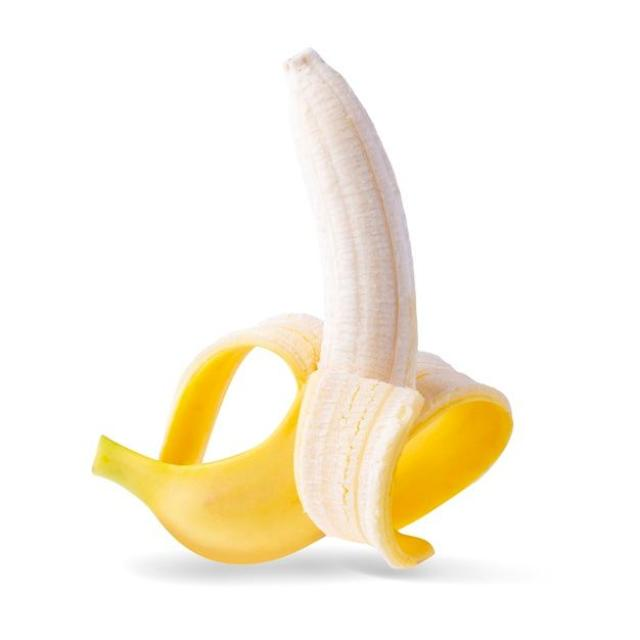banana: (94, 51, 511, 566), (288, 51, 432, 567), (94, 315, 323, 563)
